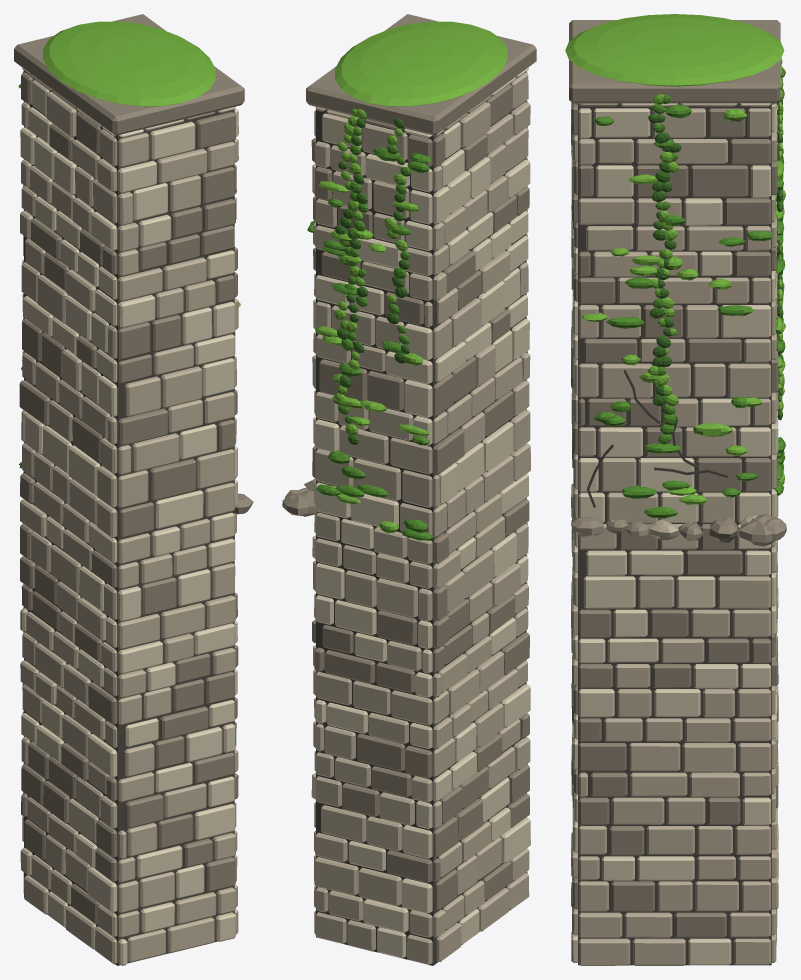
Rendered from BossWall_GreenMeadow.fbx.
3 views of the same model, side by side, from view 1: azimuth 30°, elevation 25°; view 2: azimuth 150°, elevation 25°; view 3: azimuth 270°, elevation 25° (orthographic). The views are drawn at different scales.
Visible parts, largest first — view 1: BossWall_GreenMeadow; view 2: BossWall_GreenMeadow; view 3: BossWall_GreenMeadow.
Part boxes in pixels (x1,y1,x2,y2): BossWall_GreenMeadow: [14, 14, 253, 965]; BossWall_GreenMeadow: [282, 14, 536, 965]; BossWall_GreenMeadow: [565, 14, 786, 965].
Size of the model in its own units: 399 by 2030 by 455.
